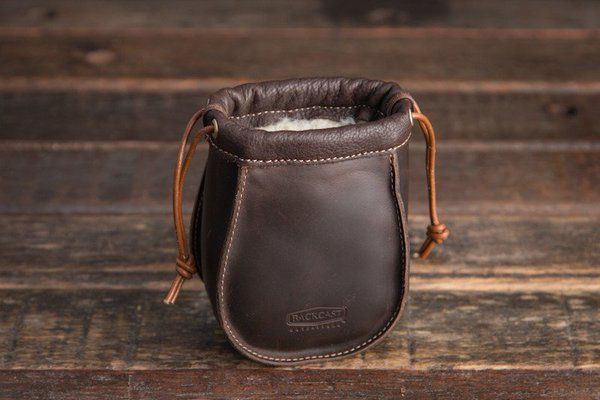cuero: (163, 76, 448, 368)
